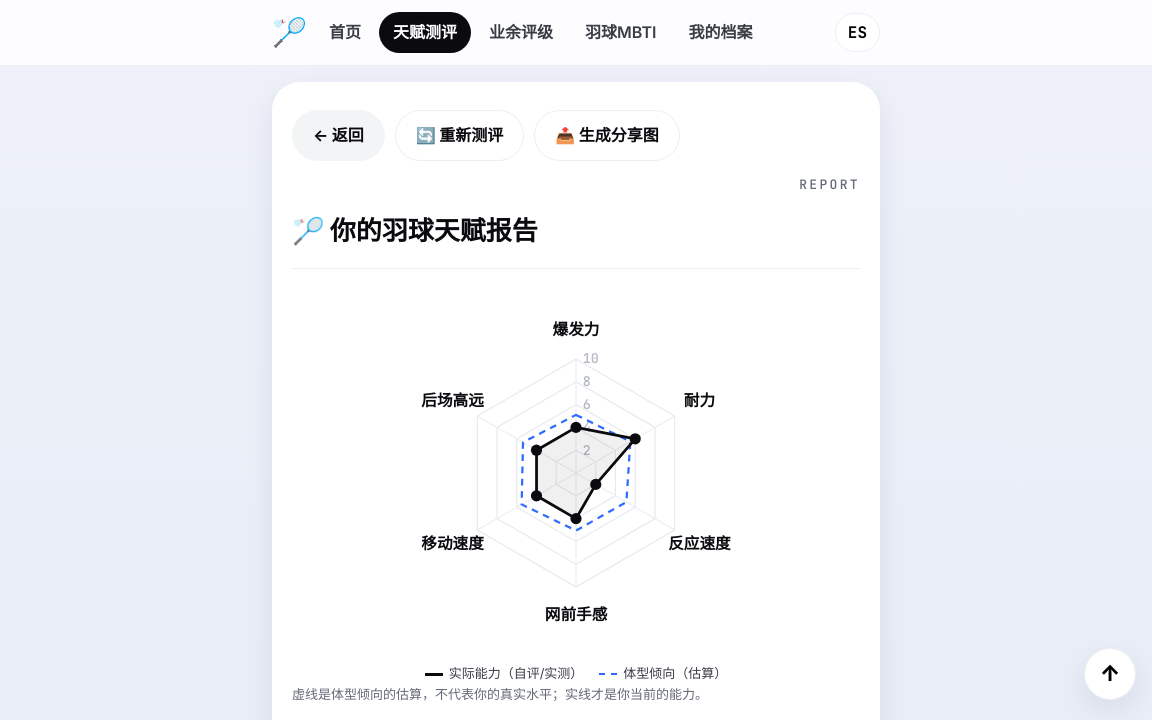
Test: ReportPage › cambiar de idioma traduce todo el informe
Click the button with aria-label "切换到西班牙语": (857, 32) [835,13,880,52]
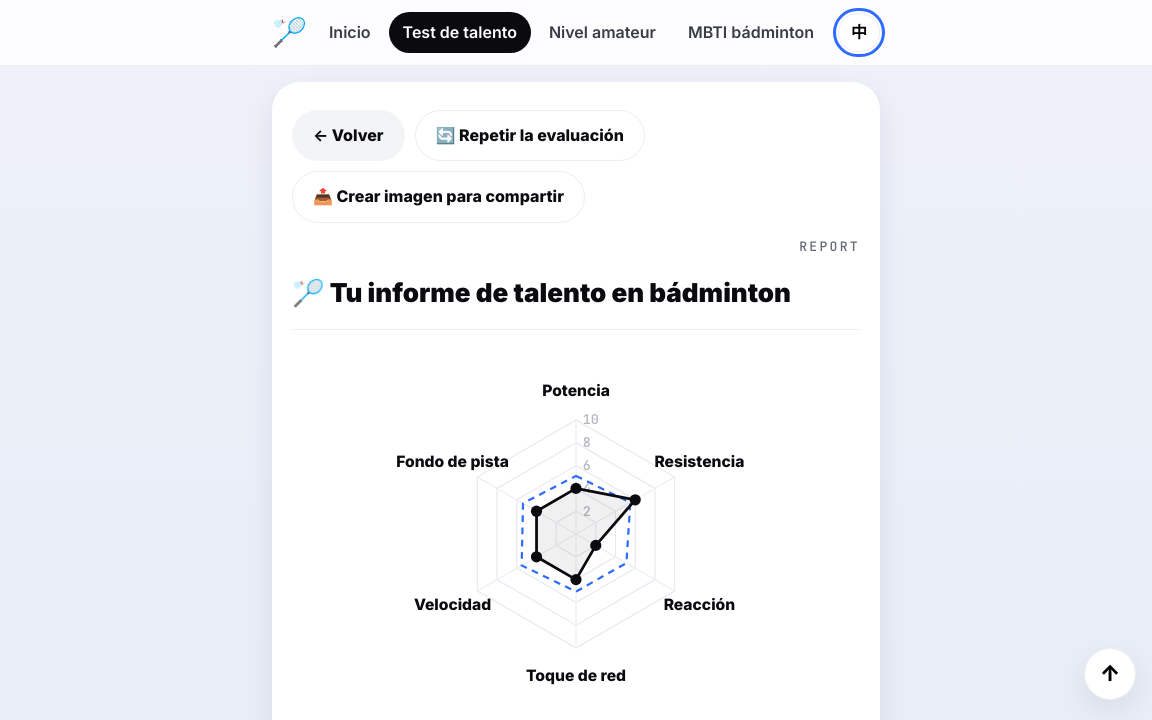
Check: the text "四方拉吊控制型" is gone
Check: the text "：" is gone
